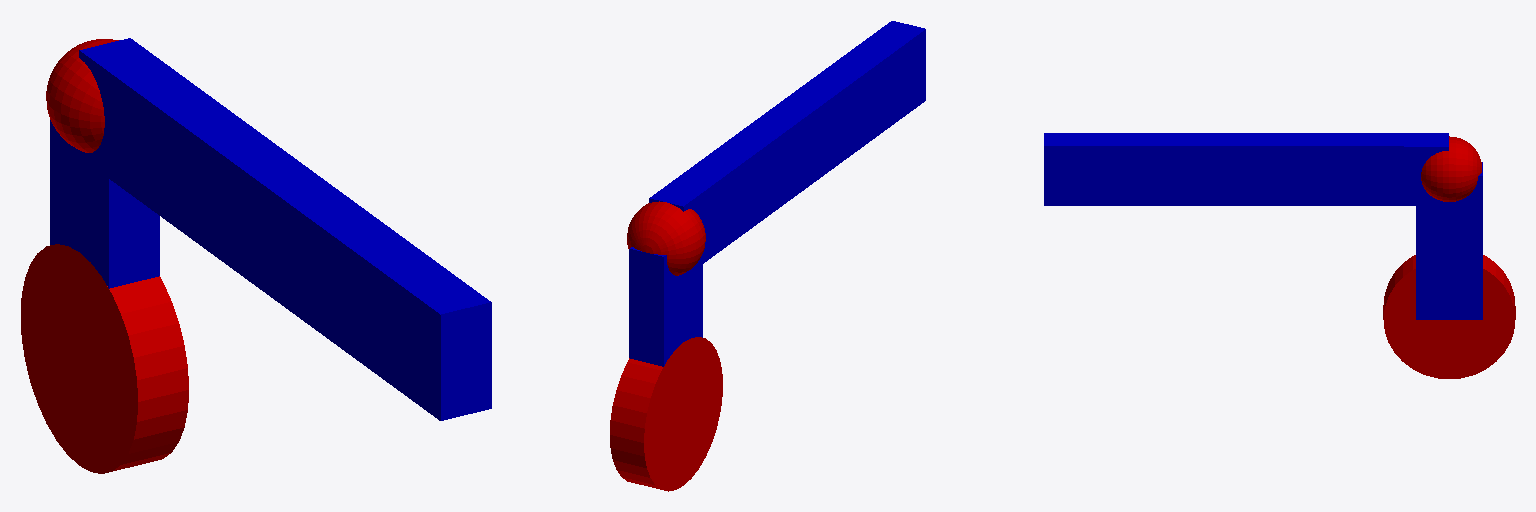
URDF robot description (TwoLinkStruct9974590701):
<?xml version="1.0"?>
<robot  name="TwoLinkStruct9974590701" >
 <material  name="blue" >
  <color  rgba="0 0 0.8 1.0" />
 </material>
 <material  name="red" >
  <color  rgba="0.8 0 0 1.0" />
 </material>
 <link  name="base_link" >
  <visual >
   <origin  rpy="0 1.5707 0"  xyz="0 0 0" />
   <material  name="red" />
   <geometry >
    <cylinder  length="0.05"  radius="0.1" />
   </geometry>
  </visual>
 </link>
 <joint  type="revolute"  name="joint1" >
  <parent  link="base_link" />
  <child  link="link1" />
  <origin  xyz="0 0 0"  rpy="0 0 0" />
  <axis  xyz="1 0 0" />
 </joint>
 <link  name="link1" >
  <inertial >
   <origin  rpy="0 0 0"  xyz="0 0 0.11965629515351313" />
   <mass  value="0.4392399733350379" />
   <inertia  ixy="0.0"  iyy="0.0001830166555562658"  izz="0.002187799983426238"  ixz="0.0"  ixx="0.002187799983426238"  iyz="0.0" />
  </inertial>
  <visual >
   <origin  rpy="0 0 0"  xyz="0 0 0.11965629515351313" />
   <material  name="blue" />
   <geometry >
    <box  size="0.05 0.1 0.23931259030702626" />
   </geometry>
  </visual>
 </link>
 <joint  type="fixed"  name="joint-joint-1" >
  <parent  link="link1" />
  <child  link="joint-link-1" />
  <origin  xyz="0 0 0.23931259030702626"  rpy="1.5707 0 0" />
  <axis  xyz="1 0 0" />
 </joint>
 <link  name="joint-link-1" >
  <inertial >
   <origin  rpy="0 0 0"  xyz="0 0 0" />
   <mass  value="2.1727328306226505" />
   <inertia  ixy="0"  iyy="0"  izz="0"  ixz="0"  ixx="0"  iyz="0" />
  </inertial>
  <visual >
   <origin  rpy="0 0 0"  xyz="0 0 0" />
   <material  name="red" />
   <geometry >
    <sphere  radius="0.05" />
   </geometry>
  </visual>
 </link>
 <joint  type="revolute"  name="joint2" >
  <parent  link="link1" />
  <child  link="link2" />
  <origin  xyz="0 0 0.23931259030702626"  rpy="1.5707 0 0" />
  <axis  xyz="1 0 0" />
 </joint>
 <link  name="link2" >
  <inertial >
   <origin  rpy="0 0 0"  xyz="0 0 0.3066828643173318" />
   <mass  value="1.605252902520024" />
   <inertia  ixy="0.0"  iyy="0.0001830166555562658"  izz="0.013862322674708123"  ixz="0.0"  ixx="0.013862322674708123"  iyz="0.0" />
  </inertial>
  <visual >
   <origin  rpy="0 0 0"  xyz="0 0 0.3066828643173318" />
   <material  name="blue" />
   <geometry >
    <box  size="0.05 0.1 0.6133657286346637" />
   </geometry>
  </visual>
 </link>
 <joint  type="fixed"  name="eef_joint" >
  <parent  link="link2" />
  <child  link="eef" />
  <origin  xyz="0 0 0.6133657286346637"  rpy="0 0 0" />
 </joint>
 <link  name="eef" >
  <inertial >
   <origin  rpy="0 0 0"  xyz="0 0 0" />
   <mass  value="1" />
   <inertia  ixy="0"  iyy="0"  izz="0"  ixz="0"  ixx="0"  iyz="0" />
  </inertial>
 </link>
 <transmission  name="motor1" >
  <type  xmltext="SimpleTransmission" >
   SimpleTransmission
  </type>
  <actuator  name="motor1" >
   <mechanicalreduction  xmltext="1" >
    1
   </mechanicalreduction>
  </actuator>
  <joint  name="joint1" />
 </transmission>
 <transmission  name="motor2" >
  <type  xmltext="SimpleTransmission" >
   SimpleTransmission
  </type>
  <actuator  name="motor2" >
   <mechanicalreduction  xmltext="1" >
    1
   </mechanicalreduction>
  </actuator>
  <joint  name="joint2" />
 </transmission>
</robot>

<!-- {'carti': array([-0.1 ,  0.14,  0.85]), 'cartd': array([-0.1 ,  0.32,  1.29]), 'tau_mu': 0.6727009981391061, 'b0': 0.15586856929395757, 'Km': 0.0, 'k_velocity': 91.42664015880477, 'tau_max_m': 1.6147785560889543, 'omega_max_m': 2905.631534481985, 'gear_ratio': 17.38824941017734, 'Kp': 4.410015049435152, 'Kd': 10.000833543212867, 'm_m': 2.1727328306226505, 'l1': 0.23931259030702626, 'l2': 0.6133657286346637, 'k1': 12379.793536951023, 'k2': 56699207.031440794, 'k3': 254471059.26962432}-->

--- Facts derived from the render (not from the file) ---
3 views of the same robot in one strip: view 1: azimuth 30°, elevation 25°; view 2: azimuth 150°, elevation 25°; view 3: azimuth 270°, elevation 25° (orthographic).
Robot: TwoLinkStruct9974590701 — 5 links, 4 joints (2 revolute, 2 fixed); root link base_link; default pose: all joints at 0.
Links seen in each view (by area): view 1: link2, base_link, link1, joint-link-1; view 2: link2, base_link, link1, joint-link-1; view 3: link2, base_link, link1, joint-link-1.
Boxes of the visible links, x1,y1,x2,y2 form: link2: (79,38,491,420); base_link: (21,244,188,473); link1: (50,120,159,288); joint-link-1: (46,39,118,152); link2: (649,21,925,275); base_link: (610,337,722,491); link1: (629,247,702,366); joint-link-1: (627,201,705,275); link2: (1044,133,1448,205); base_link: (1383,255,1515,378); link1: (1416,162,1482,319); joint-link-1: (1421,136,1481,201).
Size in the robot's own frame: 0.1 by 0.7134 by 0.3894 metres.
Geometry: primitives only (box / cylinder / sphere), no mesh files.
